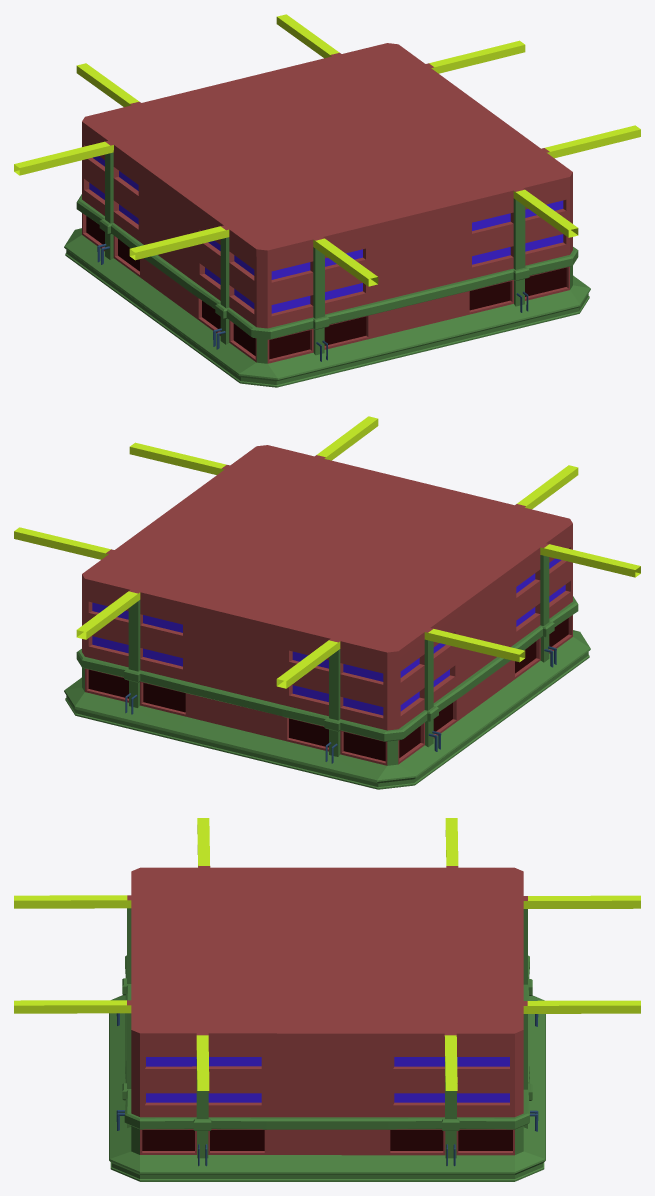
Rendered from structure_upper_interior.FBX.
3 renders of one model, top to bottom at view 1: azimuth 30°, elevation 25°; view 2: azimuth 150°, elevation 25°; view 3: azimuth 270°, elevation 25°, orthographic. The views are drawn at different scales.
Visible parts, largest first — view 1: intersection010; view 2: intersection010; view 3: intersection010.
Part boxes in pixels (left/top/right/bottom): intersection010: left=14, top=14, right=640, bottom=387; intersection010: left=14, top=416, right=640, bottom=789; intersection010: left=14, top=818, right=640, bottom=1181.
Bounding box in the file's own units: 1189 × 293 × 1189.
